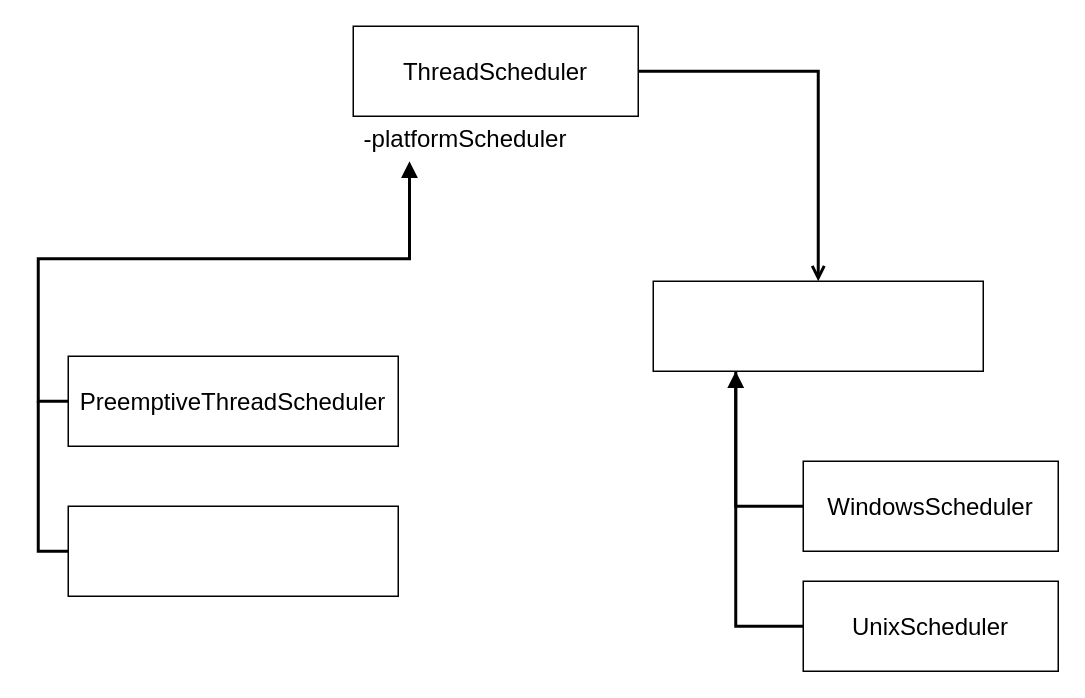
The diagram is 1085 pixels wide and 698 high, and some of its shapes have lost their labels. Here are the shapes that lost their labels. From the top down, the centre of each, then its label:
At pixel 817 325: "IPlatformScheduler".
At pixel 232 550: "CooperativeThreadScheduler".
